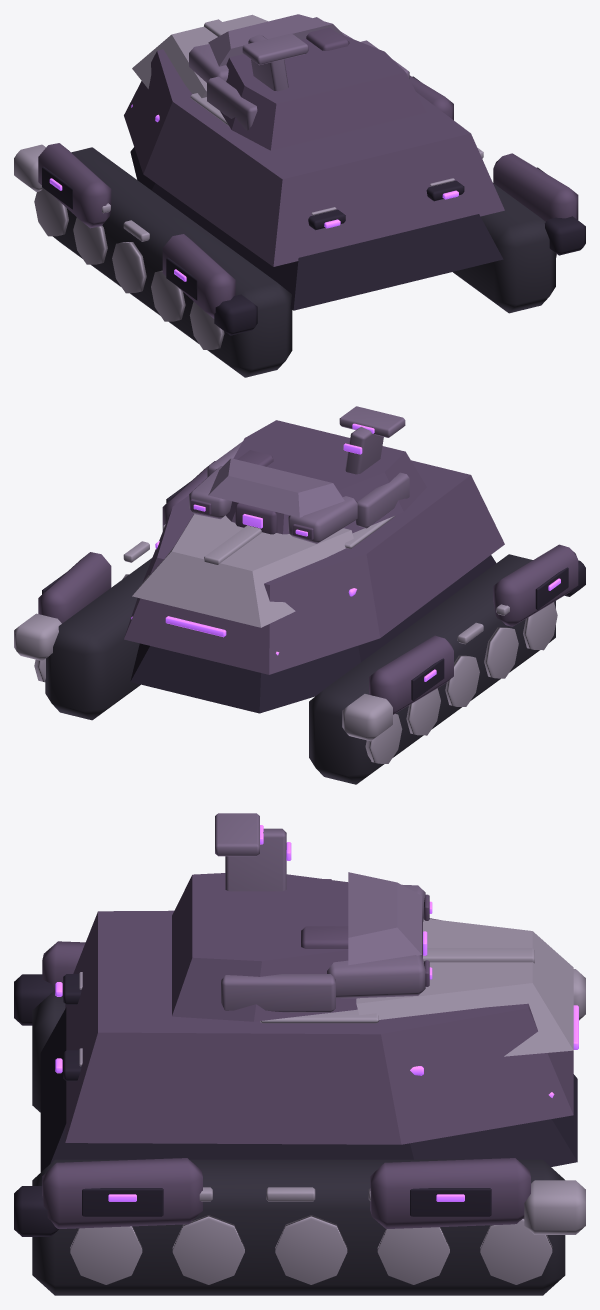
The model's file is stealth-tank.glb.
3 views of the same model, one above another, from view 1: azimuth 30°, elevation 25°; view 2: azimuth 150°, elevation 25°; view 3: azimuth 270°, elevation 25° (orthographic). The views are drawn at different scales.
Visible parts, largest first — view 1: Split track guard, Stealth turret, Specter track loop, Guard inset, Specter road wheel; view 2: Split track guard, Specter road wheel, Specter track loop, Stealth turret, Guard inset, Guard ion pin; view 3: Split track guard, Specter road wheel, Stealth turret, Specter track loop, Guard inset, Guard ion pin.
Part boxes in pixels (x1,y1,x2,y2): Split track guard: [38, 49, 578, 318]; Stealth turret: [189, 14, 426, 150]; Specter track loop: [53, 147, 555, 377]; Guard inset: [42, 76, 585, 335]; Specter road wheel: [14, 14, 556, 349]; Split track guard: [38, 460, 578, 714]; Specter road wheel: [14, 514, 557, 763]; Specter track loop: [45, 554, 555, 784]; Stealth turret: [189, 406, 426, 543]; Guard inset: [42, 482, 585, 713]; Guard ion pin: [131, 541, 560, 681]; Split track guard: [42, 910, 573, 1228]; Specter road wheel: [70, 919, 585, 1284]; Stealth turret: [172, 813, 432, 1021]; Specter track loop: [32, 990, 565, 1295]; Guard inset: [14, 974, 577, 1236]; Guard ion pin: [55, 982, 578, 1201].
Bounding box in the file's own units: 1.4 × 0.9175 × 1.4.
